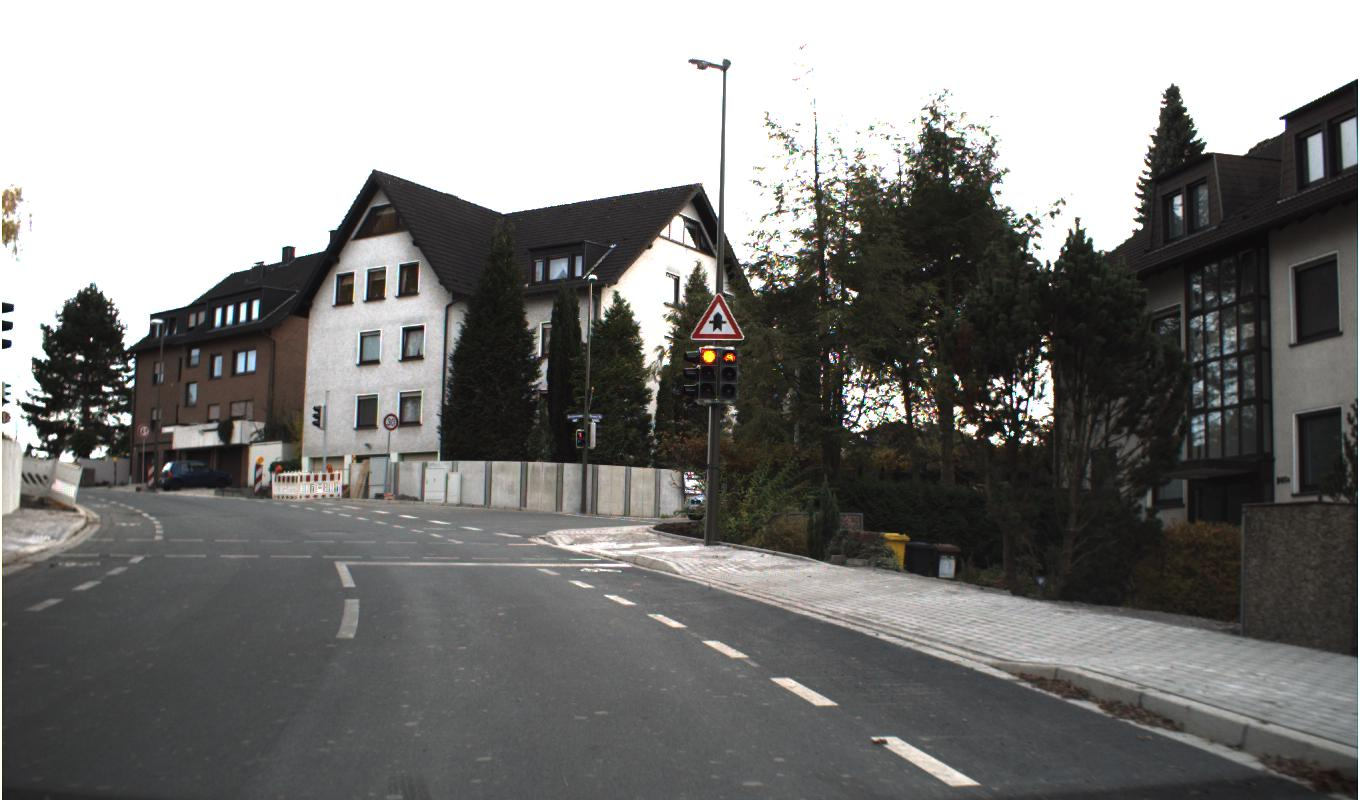danger: (689, 292, 745, 340)
prohibitory: (382, 412, 399, 431)
